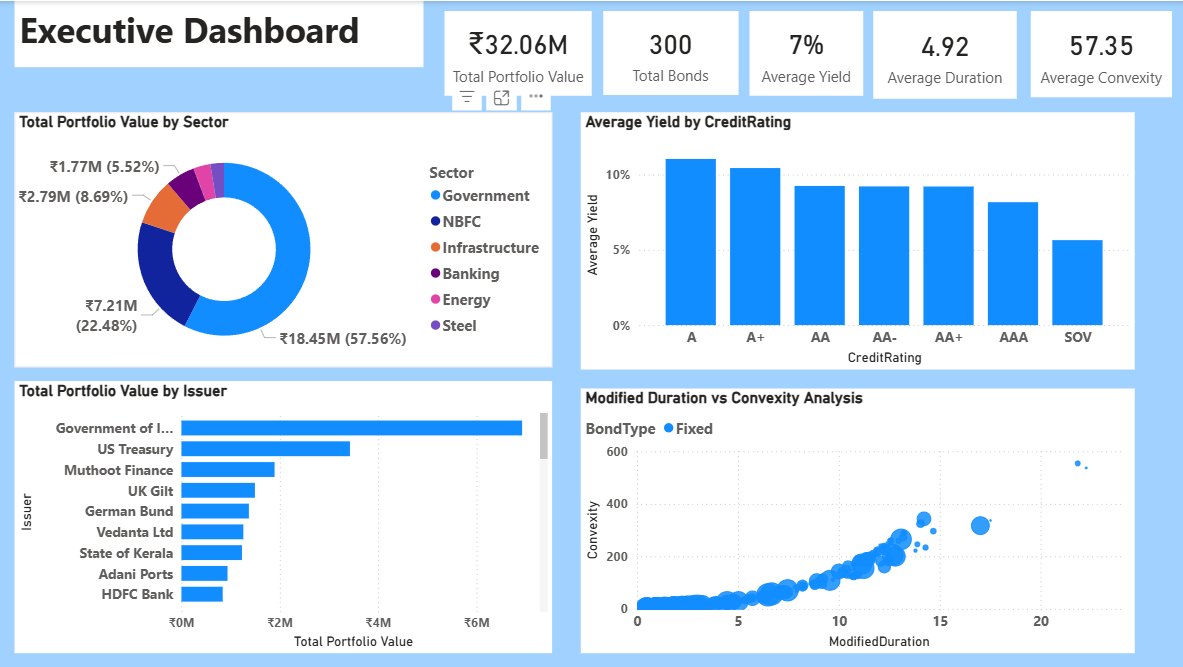

What the dashboard file says about the page in this screenshot:
{"tool":"powerbi","page":{"name":"Executive Dashboard.","canvas":[1280,720],"ordinal":0},"visuals":[{"type":"textbox","box":[18.8,0,439.8,71.3],"z":0},{"type":"card","fields":{"Values":["bond_portfolio_data.Total Portfolio Value"]},"box":[481.4,10.8,158.7,91.4],"z":1000},{"type":"card","fields":{"Values":["bond_portfolio_data.Average Yield"]},"box":[809.6,10.8,122.4,91.4],"z":2000},{"type":"card","fields":{"Values":["bond_portfolio_data.Total Bonds"]},"box":[652.2,10.8,145.2,90.1],"z":3000},{"type":"card","fields":{"Values":["bond_portfolio_data.Average Duration"]},"box":[942.7,10.8,154.7,94.1],"z":4000},{"type":"card","fields":{"Values":["bond_portfolio_data.Average Convexity"]},"box":[1112.2,10.8,152,92.8],"z":5000},{"type":"donutChart","fields":{"Category":["bond_portfolio_data.Sector"],"Y":["bond_portfolio_data.Total Portfolio Value"]},"box":[18.8,119.7,578.3,274.3],"z":6000},{"type":"clusteredBarChart","fields":{"Category":["bond_portfolio_data.Issuer"],"Y":["bond_portfolio_data.Total Portfolio Value"]},"box":[18.8,408.8,578.3,293.2],"z":7000},{"type":"clusteredColumnChart","fields":{"Category":["bond_portfolio_data.CreditRating"],"Y":["bond_portfolio_data.Average Yield"]},"box":[628,119.7,595.8,277],"z":8000},{"type":"scatterChart","title":"Modified Duration vs Convexity Analysis","fields":{"X":["bond_portfolio_data.ModifiedDuration"],"Y":["bond_portfolio_data.Convexity"],"Size":["Sum(bond_portfolio_data.MarketValue_INR)"],"Series":["bond_portfolio_data.BondType"]},"box":[628,416.9,595.8,285.1],"z":9000}]}

Visuals, with their boxes in screenshot pixels (x1, y1, x2, y2), scaled from the page's 1280x720 canvas onto the 1183x667 screenshot:
textbox: (x1=17, y1=0, x2=424, y2=66)
card - bond_portfolio_data.Total Portfolio Value: (x1=445, y1=10, x2=592, y2=95)
card - bond_portfolio_data.Average Yield: (x1=748, y1=10, x2=861, y2=95)
card - bond_portfolio_data.Total Bonds: (x1=603, y1=10, x2=737, y2=93)
card - bond_portfolio_data.Average Duration: (x1=871, y1=10, x2=1014, y2=97)
card - bond_portfolio_data.Average Convexity: (x1=1028, y1=10, x2=1168, y2=96)
donutChart - bond_portfolio_data.Sector x bond_portfolio_data.Total Portfolio Value: (x1=17, y1=111, x2=552, y2=365)
clusteredBarChart - bond_portfolio_data.Issuer x bond_portfolio_data.Total Portfolio Value: (x1=17, y1=379, x2=552, y2=650)
clusteredColumnChart - bond_portfolio_data.CreditRating x bond_portfolio_data.Average Yield: (x1=580, y1=111, x2=1131, y2=367)
"Modified Duration vs Convexity Analysis" scatterChart: (x1=580, y1=386, x2=1131, y2=650)
